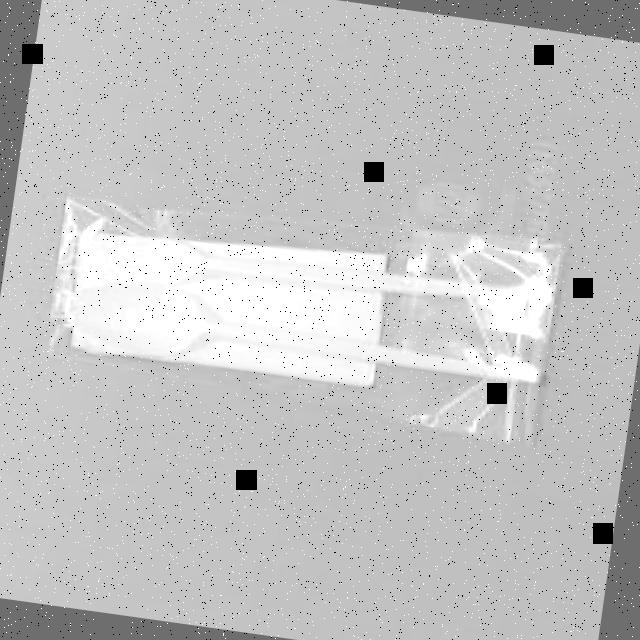plastic_spoon: (57, 218, 549, 407)
